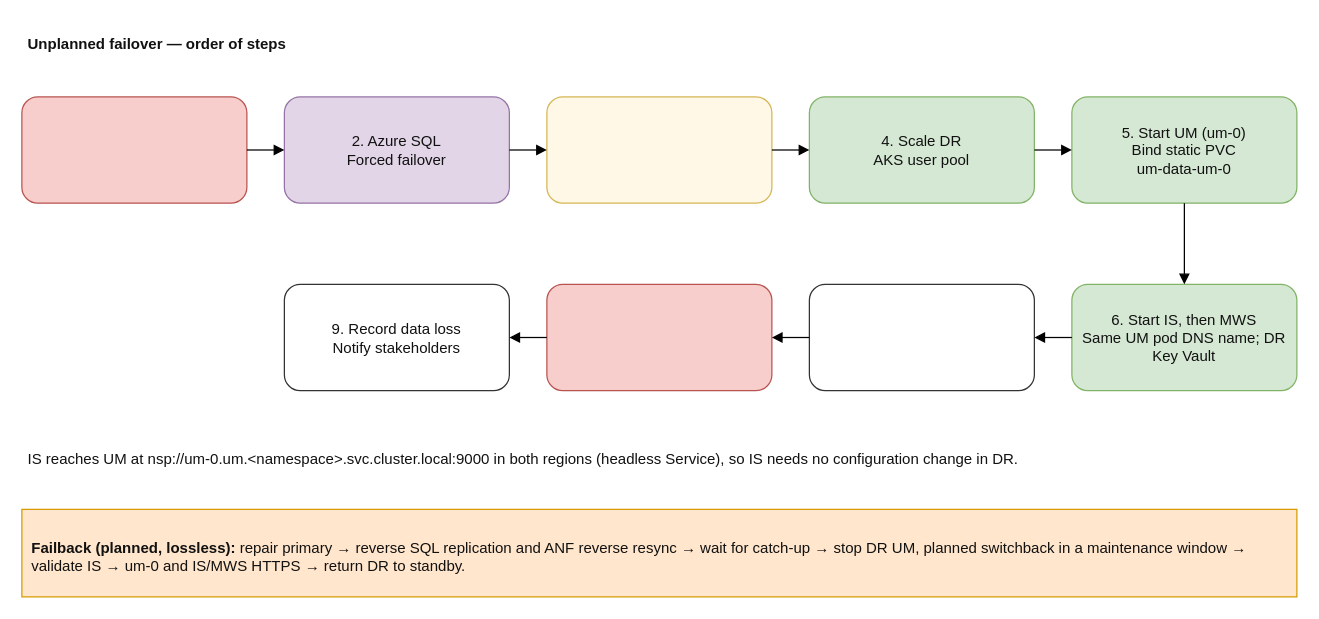
This 1319x619 diagram has some shape labels left out. Each missing label, with the centre of its shape:
"1. Declare DR Freeze CI/CD; keep primary UM stopped" belongs at pixel 134 149.
"3. Break ANF replication DR volume read-write" belongs at pixel 659 149.
"7. Smoke tests IS → UM pub/sub; MWS" belongs at pixel 921 337.
"8. Switch Front Door IS/MWS HTTPS only" belongs at pixel 659 337.
